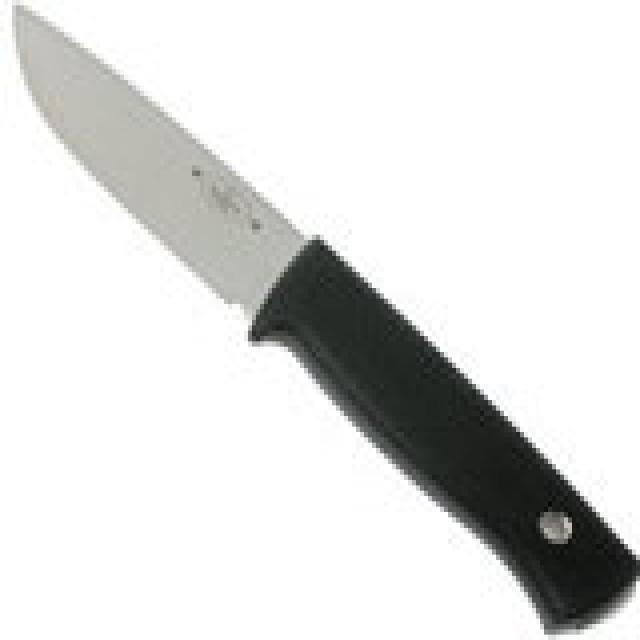Knife: (6, 0, 618, 627)
